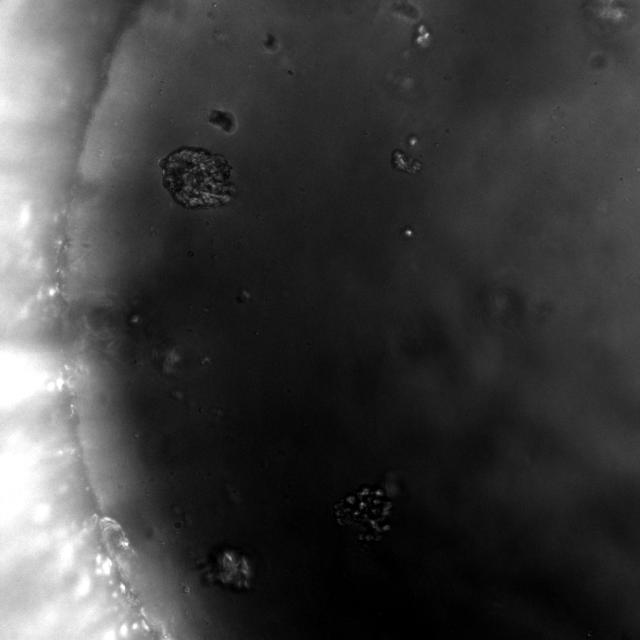organoid: (159, 147, 235, 208), (334, 485, 392, 541), (198, 547, 254, 591), (391, 150, 421, 173), (209, 110, 236, 133), (415, 24, 432, 48)
